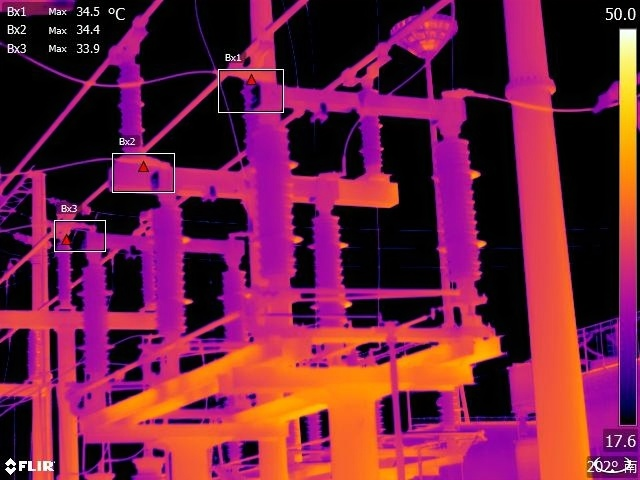post insulator: (247, 121, 302, 286), (429, 136, 490, 282), (149, 201, 193, 340), (308, 212, 358, 323), (79, 261, 114, 385), (116, 57, 149, 154), (217, 266, 249, 345), (48, 237, 81, 306), (358, 109, 389, 173), (302, 412, 326, 451), (222, 440, 247, 473), (434, 393, 458, 424)
switch: (104, 148, 404, 218), (235, 69, 472, 139), (80, 229, 246, 259)
